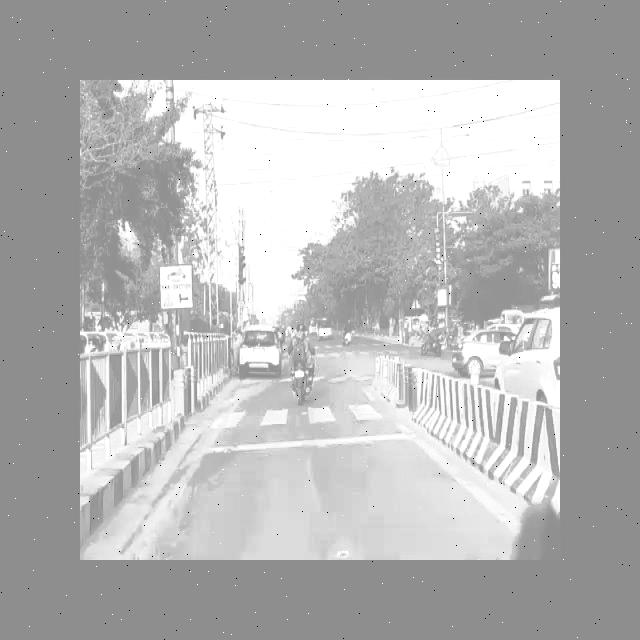Bike: (291, 324, 318, 404)
Car: (511, 311, 561, 407), (451, 317, 499, 379), (239, 319, 289, 377)
